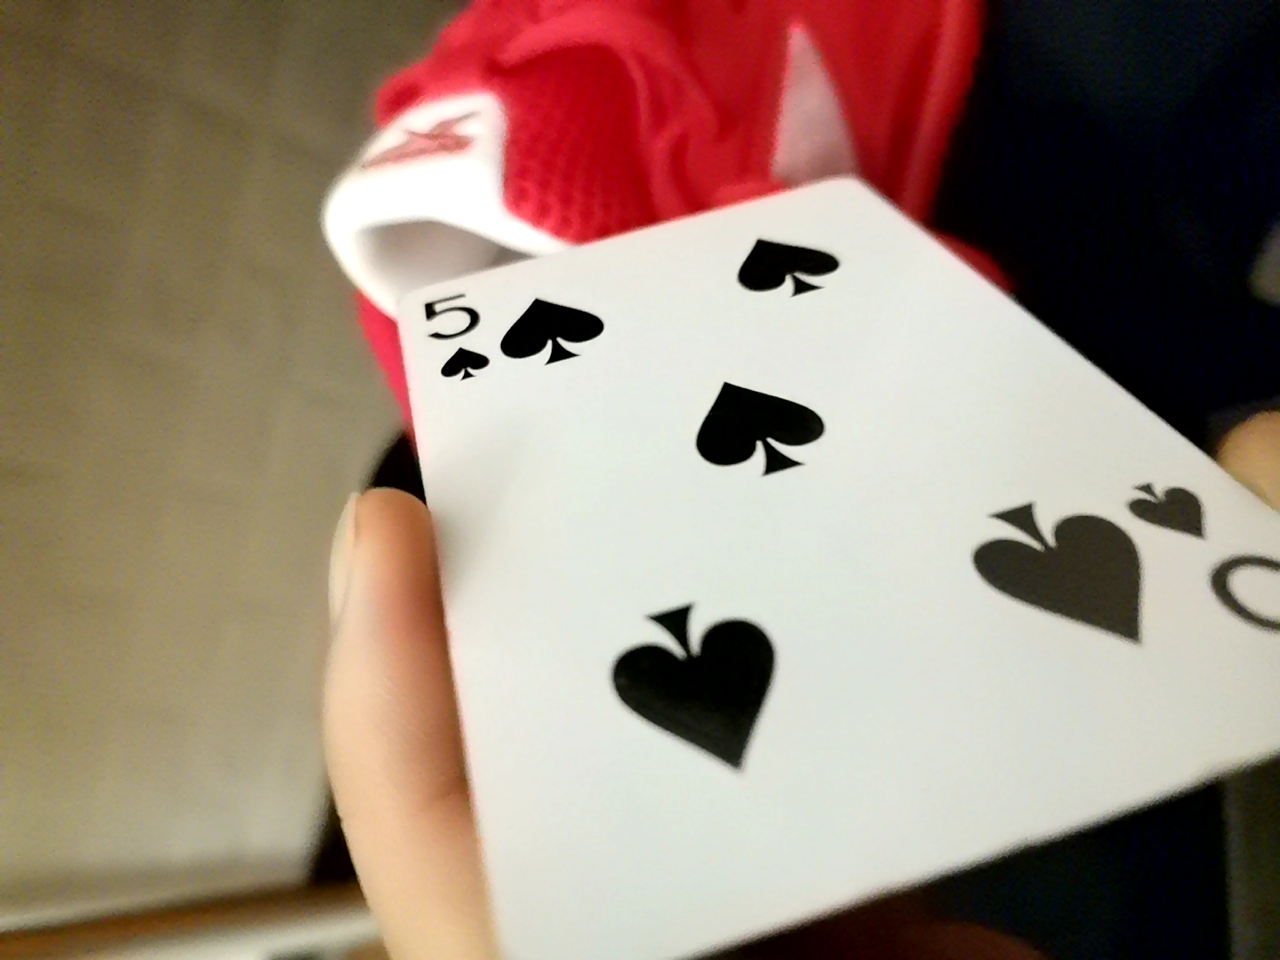ht 5: (348, 155, 1264, 956)
